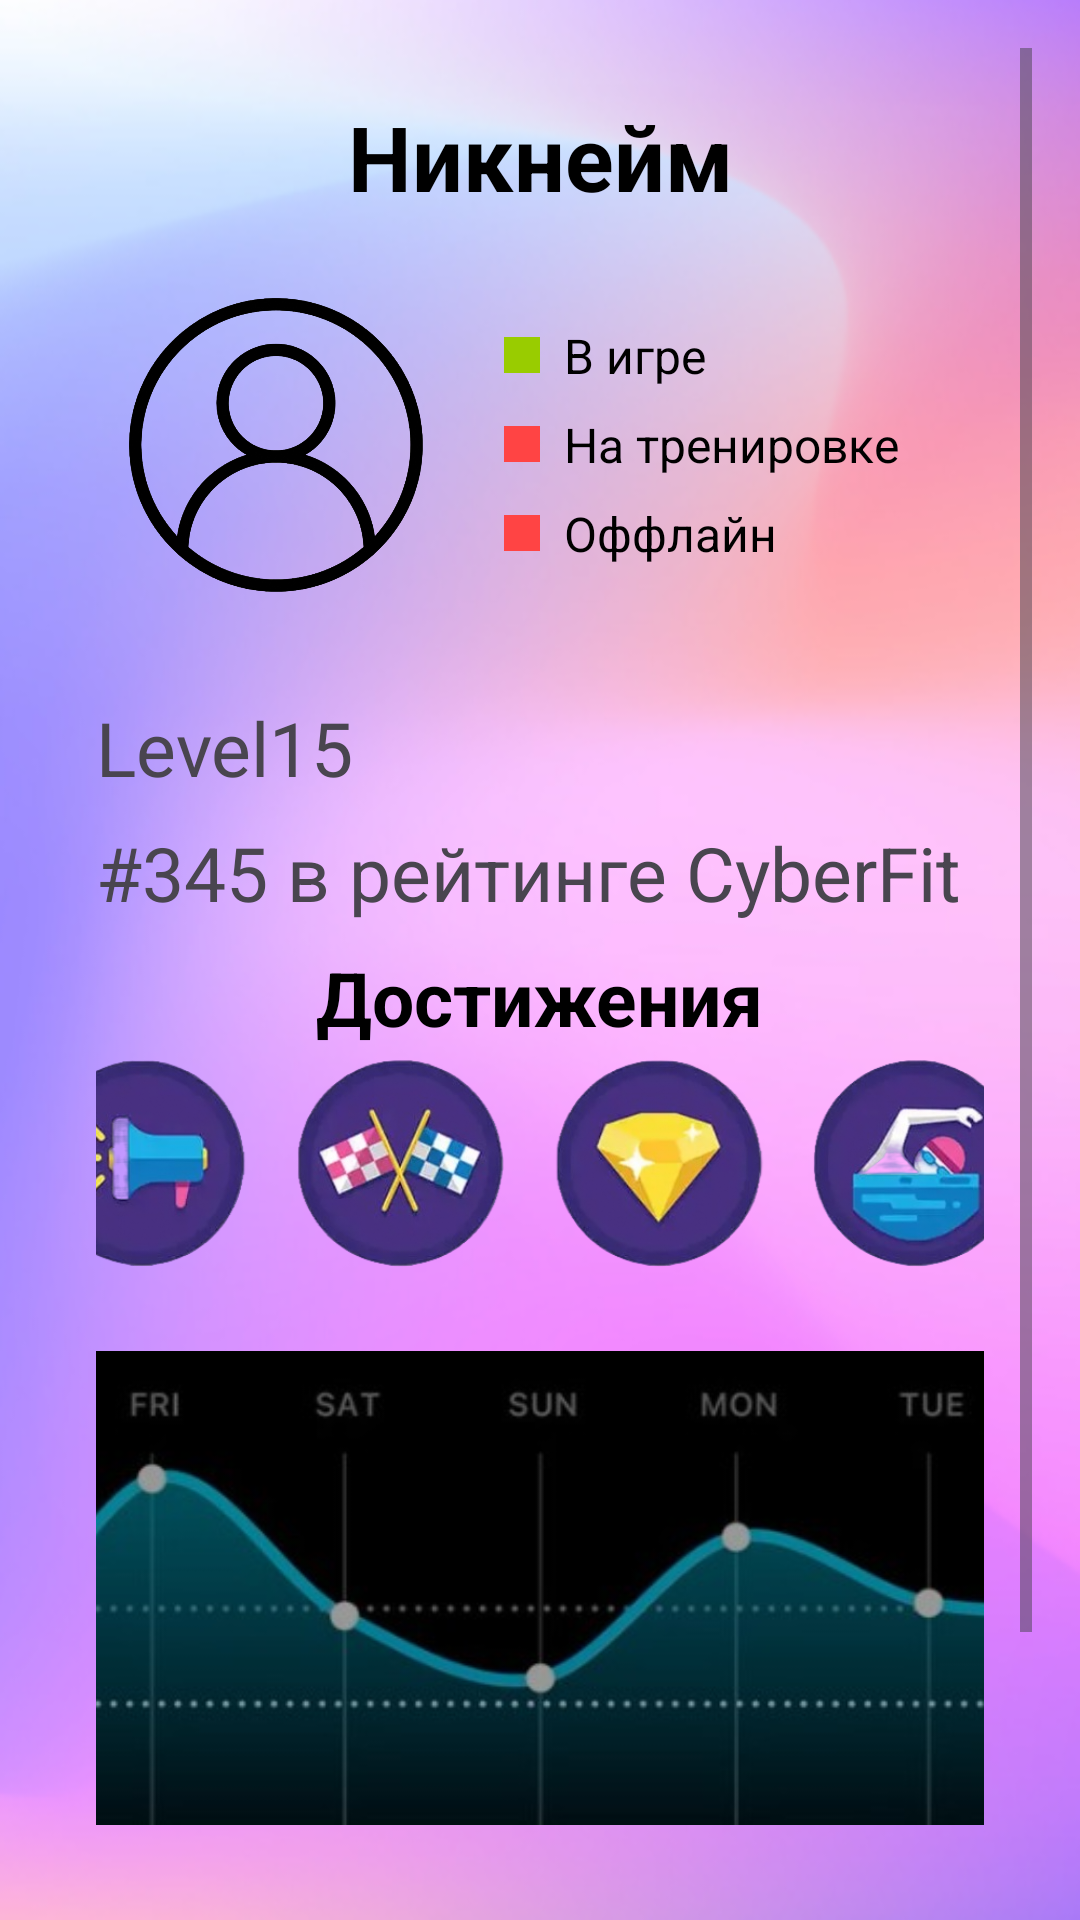

Named icons in this screenshot (1080px x 1920px) and their centers, point (x, y):
Иконка: point (276, 445)
